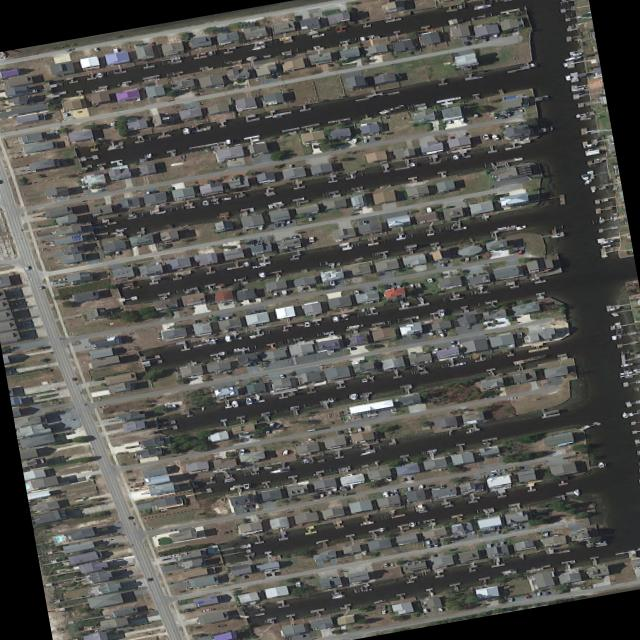ship: (268, 467, 290, 474), (376, 107, 395, 114), (494, 224, 515, 230), (471, 4, 492, 10), (563, 55, 581, 61), (344, 324, 364, 329), (359, 450, 375, 456), (249, 45, 265, 51), (498, 569, 515, 574), (579, 173, 589, 181), (598, 239, 614, 244), (548, 233, 564, 238), (250, 263, 266, 268), (231, 346, 246, 351), (330, 594, 345, 599), (229, 399, 238, 407), (435, 309, 444, 317), (336, 486, 348, 492), (583, 143, 597, 148), (429, 347, 440, 353), (244, 397, 252, 405), (489, 133, 497, 141), (500, 110, 510, 116), (392, 104, 404, 109), (222, 335, 230, 342), (236, 448, 244, 455), (605, 307, 619, 311), (619, 363, 633, 367), (256, 271, 264, 278), (567, 52, 581, 56), (569, 87, 583, 91), (181, 127, 188, 135), (113, 227, 126, 231), (381, 490, 388, 497), (572, 489, 579, 496), (223, 138, 230, 145), (349, 393, 355, 401), (406, 522, 414, 528), (200, 200, 208, 206), (594, 541, 605, 545), (280, 449, 287, 455), (242, 483, 249, 489), (331, 315, 337, 322), (596, 462, 603, 468), (307, 236, 313, 243), (481, 133, 487, 140), (376, 527, 384, 532), (621, 411, 626, 419), (303, 321, 309, 327), (327, 397, 333, 403), (208, 338, 214, 344), (610, 335, 616, 341), (426, 277, 432, 283), (352, 289, 358, 295), (222, 479, 234, 482), (360, 549, 366, 555), (293, 581, 299, 587), (564, 75, 570, 81), (145, 152, 151, 158), (216, 351, 223, 356), (583, 179, 590, 184), (407, 162, 414, 167), (327, 281, 334, 286), (527, 62, 534, 67), (600, 245, 611, 248), (244, 543, 250, 548), (609, 325, 615, 330), (618, 372, 624, 377), (515, 332, 520, 338), (416, 484, 422, 489), (451, 154, 456, 160), (350, 138, 356, 143), (96, 72, 101, 78), (575, 113, 580, 118), (408, 283, 413, 288), (360, 378, 365, 383), (506, 597, 511, 602), (243, 261, 248, 266), (330, 487, 336, 491), (424, 540, 430, 544), (219, 197, 231, 199), (256, 226, 262, 230), (207, 51, 212, 55)
small-vehicle: (200, 608, 213, 612), (129, 484, 141, 488), (341, 492, 353, 496), (279, 290, 287, 296), (52, 278, 64, 282), (49, 281, 60, 285), (14, 301, 25, 305), (22, 265, 29, 271), (489, 469, 499, 473), (63, 48, 73, 52), (421, 608, 428, 613), (438, 262, 445, 267), (163, 555, 174, 558), (159, 558, 170, 561), (30, 215, 41, 218), (276, 374, 284, 378), (464, 41, 470, 46), (436, 607, 442, 612), (271, 292, 277, 297), (21, 322, 31, 325), (78, 497, 85, 501), (305, 438, 314, 441), (483, 396, 492, 399), (506, 397, 515, 400), (102, 538, 111, 541), (336, 430, 341, 435), (356, 427, 361, 432), (380, 609, 385, 614), (481, 37, 486, 42), (272, 571, 277, 576), (405, 486, 410, 491), (433, 542, 438, 547), (114, 250, 119, 255), (37, 285, 42, 290), (465, 36, 471, 40), (325, 63, 331, 67), (153, 262, 159, 266), (391, 489, 397, 493), (469, 531, 475, 535), (286, 164, 292, 168), (163, 529, 174, 531), (496, 454, 503, 457), (92, 48, 99, 51), (223, 316, 228, 320), (239, 575, 244, 579), (438, 333, 443, 337), (389, 282, 394, 286), (368, 286, 373, 290), (148, 41, 153, 45), (458, 258, 463, 262), (265, 573, 270, 577), (333, 491, 338, 495), (453, 536, 458, 540), (535, 592, 540, 596), (517, 525, 522, 529), (498, 541, 503, 545), (407, 51, 412, 55), (144, 191, 149, 195), (307, 216, 311, 221), (361, 220, 366, 224), (362, 138, 367, 142), (463, 257, 468, 261), (516, 251, 521, 255), (461, 132, 466, 136), (62, 112, 67, 116), (500, 469, 506, 472), (245, 435, 249, 439), (327, 491, 331, 495), (319, 493, 323, 497), (449, 340, 453, 344), (382, 563, 386, 567), (400, 477, 404, 481), (426, 544, 430, 548), (494, 530, 498, 534), (285, 220, 289, 224), (242, 509, 247, 512), (298, 634, 303, 637), (489, 473, 494, 476), (431, 554, 435, 557), (218, 317, 222, 320), (544, 591, 548, 594), (407, 477, 411, 480), (447, 120, 450, 124), (279, 223, 283, 226)
